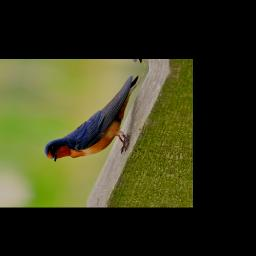Swallow: (38, 68, 149, 170)
